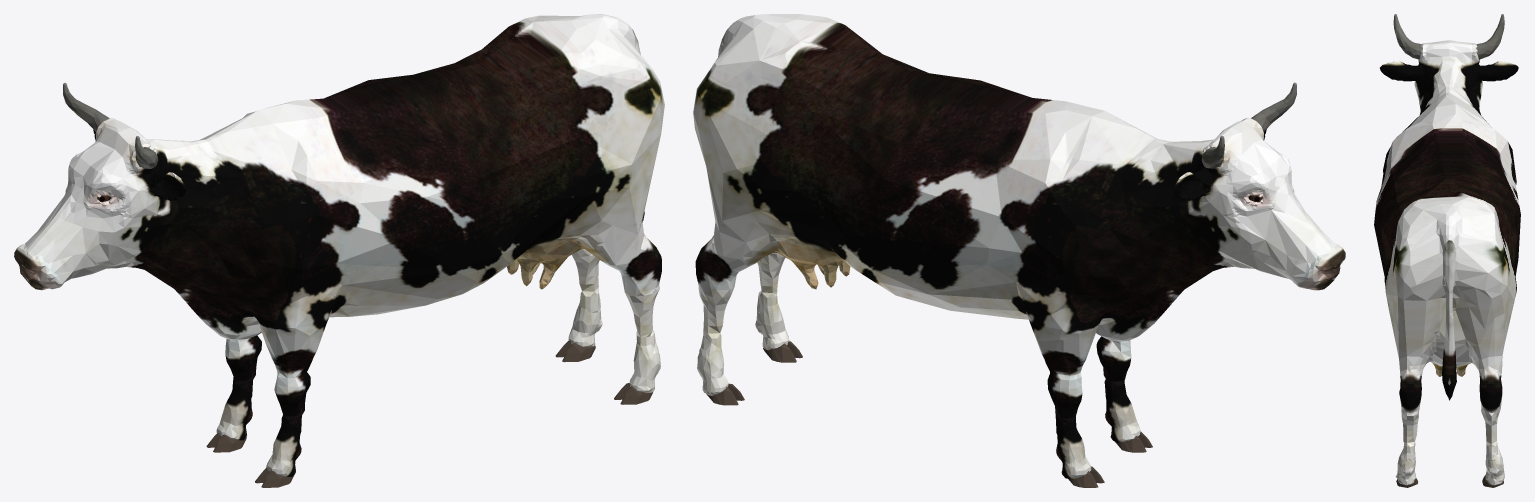
Rendered from cow.dae.
The picture shows the model from 3 angles, left to right: view 1: azimuth 30°, elevation 25°; view 2: azimuth 150°, elevation 25°; view 3: azimuth 270°, elevation 25°; orthographic projection. The views are drawn at different scales.
Parts seen in each view (by area): view 1: COWBODY, COWcuern; view 2: COWBODY, COWcuern; view 3: COWBODY, COWcuern (×2).
Boxes of the visible parts, box(x1,y1,x2,y2) form: COWBODY: box(14, 14, 664, 476); COWcuern: box(63, 83, 109, 131); COWBODY: box(693, 14, 1345, 479); COWcuern: box(1251, 82, 1296, 131); COWBODY: box(1374, 40, 1520, 485); COWcuern (×2): box(1393, 14, 1504, 59).
Size of the model in its own units: 480 by 133 by 288.
5 materials, 3 textured.
